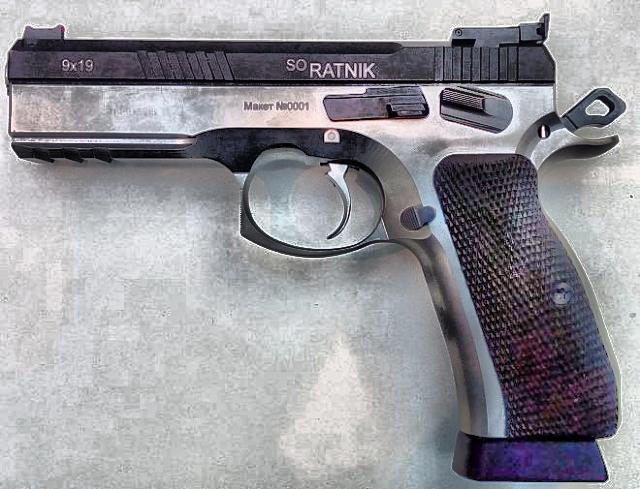pistol: (8, 16, 628, 484)
